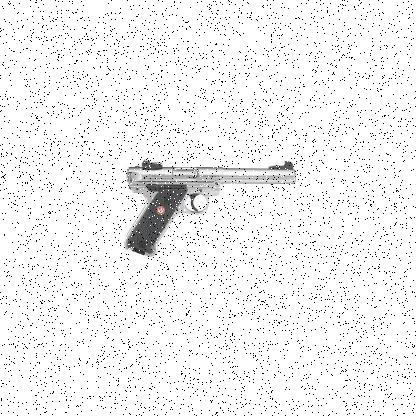gun: (120, 158, 296, 258)
